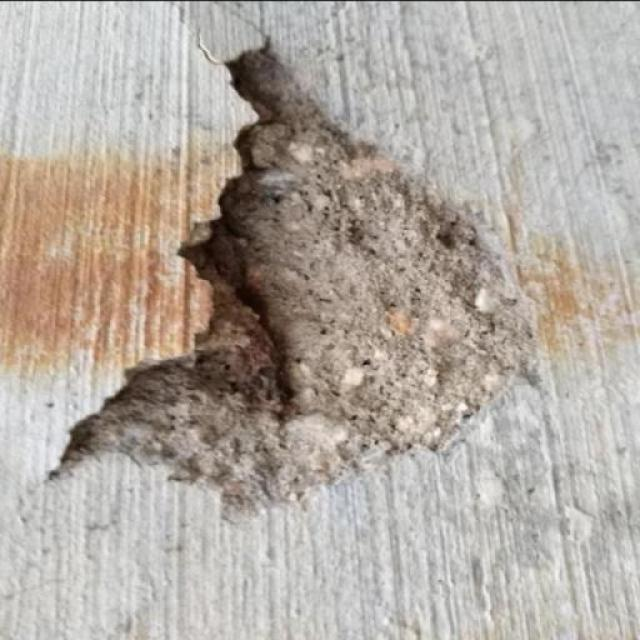D10: (50, 40, 539, 521)
